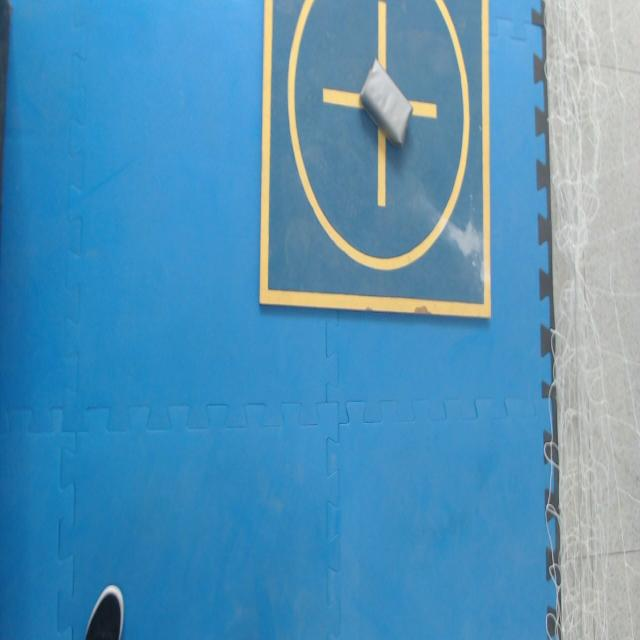esquerda: (360, 59, 412, 145)
